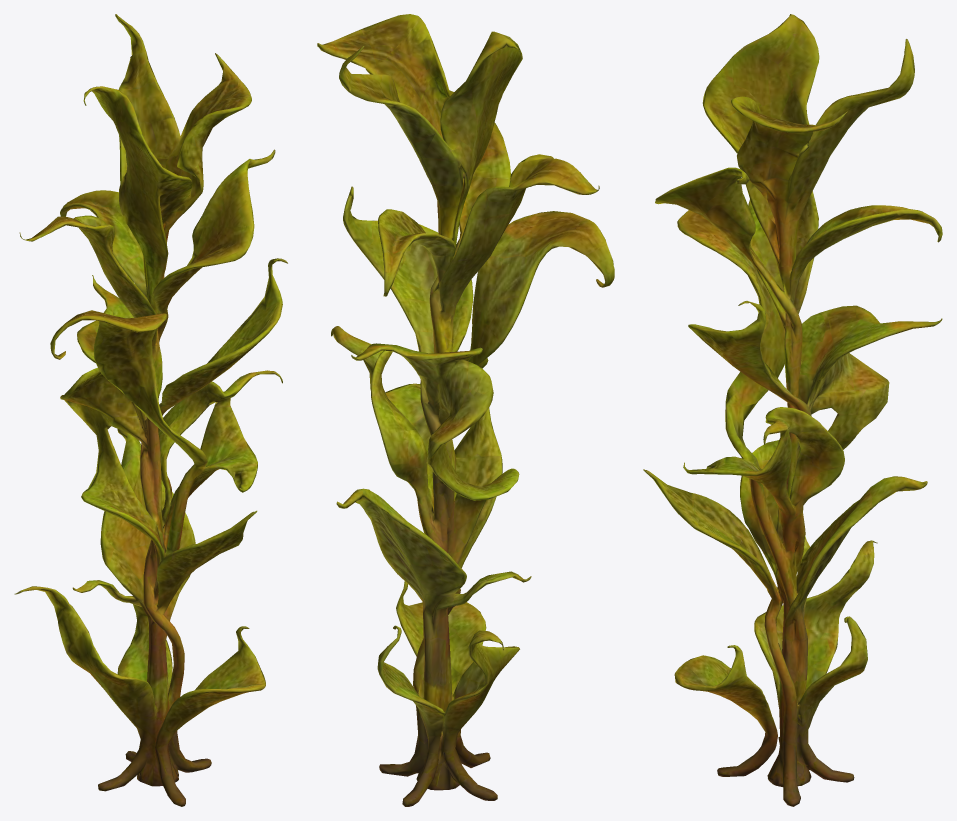
File: kelp.glb
3 views of the same model, side by side, from view 1: azimuth 30°, elevation 25°; view 2: azimuth 150°, elevation 25°; view 3: azimuth 270°, elevation 25° (orthographic). The views are drawn at different scales.
Size of the model in its own units: 0.705 by 1.9 by 0.6885.
1 material, 1 textured.
